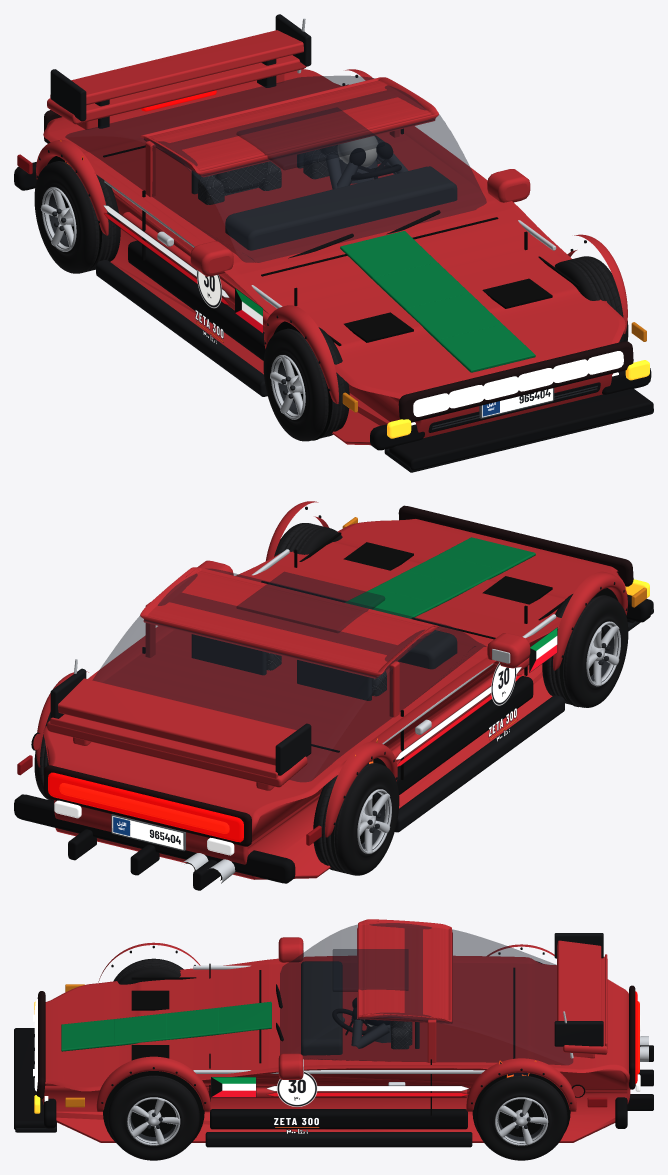
File: zeta-300.glb
3 views of the same model, one above another, from view 1: azimuth 30°, elevation 25°; view 2: azimuth 150°, elevation 25°; view 3: azimuth 270°, elevation 25° (orthographic). The views are drawn at different scales.
Parts seen in each view (by area): view 1: object 1, object 2, object 3, object 122, object 113, object 156, object 28, object 32, object 60, object 160, object 164, object 100 (+28 smaller); view 2: object 1, object 2, object 3, object 156, tail-lamps, object 28, object 60, object 32, object 160, object 164, object 90, object 100 (+28 smaller); view 3: object 1, object 2, object 3, object 106, object 161, object 46, object 74, object 122, object 156, object 28, object 113, object 52 (+31 smaller).
Part boxes in pixels (<box>): object 1: <box>43,69,625,445</box>; object 2: <box>65,75,486,262</box>; object 3: <box>140,77,438,177</box>; object 122: <box>225,166,457,250</box>; object 113: <box>389,388,653,470</box>; object 156: <box>71,30,303,105</box>; object 28: <box>236,107,385,170</box>; object 32: <box>263,327,349,441</box>; object 60: <box>34,161,120,273</box>; object 160: <box>96,259,267,396</box>; object 164: <box>47,55,306,124</box>; object 100: <box>128,240,265,360</box>; object 1: <box>43,519,625,879</box>; object 2: <box>92,568,486,782</box>; object 3: <box>140,567,438,678</box>; object 156: <box>58,678,296,765</box>; tail-lamps: <box>44,765,251,846</box>; object 28: <box>236,571,385,632</box>; object 60: <box>313,763,399,875</box>; object 32: <box>542,594,628,707</box>; object 160: <box>394,695,564,832</box>; object 164: <box>47,714,307,787</box>; object 90: <box>14,794,295,883</box>; object 100: <box>397,676,533,795</box>; object 1: <box>42,955,630,1142</box>; object 2: <box>280,923,573,1065</box>; object 3: <box>357,919,452,1023</box>; object 106: <box>210,1109,467,1129</box>; object 161: <box>205,1132,472,1147</box>; object 46: <box>107,1075,199,1160</box>; object 74: <box>475,1075,567,1160</box>; object 122: <box>301,961,342,1055</box>; object 156: <box>557,940,601,1020</box>; object 28: <box>332,949,408,991</box>; object 113: <box>14,1028,45,1129</box>; object 52: <box>96,1056,210,1111</box>.
Size of the model in its own units: 2.05 by 1 by 4.31.
Materials: 46 (10 with a texture image).
